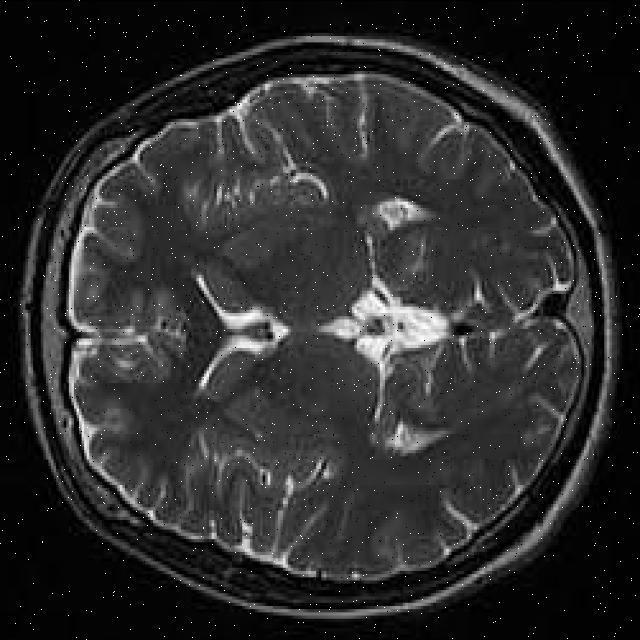No_Tumor: (21, 36, 618, 618)
